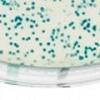Blue_green: (39, 6, 47, 13), (88, 1, 94, 8), (34, 22, 40, 29), (66, 34, 72, 41), (2, 13, 8, 19), (19, 61, 25, 67), (32, 58, 38, 64), (29, 48, 35, 54), (29, 23, 35, 29), (41, 18, 47, 24), (46, 17, 52, 23), (76, 4, 83, 9), (92, 2, 97, 9), (25, 16, 30, 23), (31, 12, 36, 19), (62, 7, 67, 14), (16, 2, 21, 9), (75, 11, 80, 17), (91, 27, 97, 32), (79, 55, 84, 61), (83, 49, 88, 55), (76, 49, 81, 55), (62, 44, 67, 50), (14, 31, 19, 37), (9, 18, 14, 24), (46, 41, 51, 47), (20, 25, 25, 31), (69, 21, 75, 26), (72, 25, 77, 31), (31, 1, 37, 6), (36, 11, 42, 16), (39, 13, 44, 19), (83, 4, 88, 9), (81, 11, 86, 16), (92, 52, 97, 57), (46, 57, 51, 62), (41, 55, 46, 60), (3, 21, 8, 26), (8, 36, 13, 41), (12, 51, 17, 56), (16, 55, 21, 60), (29, 63, 34, 68), (21, 36, 26, 41), (38, 41, 43, 46), (41, 29, 46, 34), (49, 34, 54, 39), (52, 43, 57, 48), (5, 2, 11, 6), (51, 52, 55, 58), (5, 31, 9, 37), (16, 48, 20, 54), (15, 43, 19, 49), (35, 36, 39, 42), (32, 30, 36, 36), (21, 12, 25, 18), (25, 7, 31, 11), (52, 0, 58, 4), (58, 0, 64, 4), (42, 0, 50, 3), (0, 48, 3, 55), (70, 0, 75, 4), (74, 10, 79, 14), (83, 18, 87, 23), (86, 29, 91, 33), (92, 25, 97, 29), (85, 54, 89, 59), (88, 45, 92, 50), (90, 47, 94, 52), (70, 53, 74, 58), (73, 52, 77, 57), (72, 45, 76, 50), (77, 44, 81, 49), (67, 42, 71, 47), (73, 42, 77, 47), (75, 40, 79, 45), (48, 50, 53, 54), (51, 48, 55, 53), (7, 26, 11, 31), (8, 50, 12, 55), (9, 41, 13, 46), (27, 36, 31, 41), (32, 19, 36, 24), (56, 28, 60, 33), (60, 38, 64, 43), (60, 32, 64, 37), (63, 25, 67, 30), (23, 1, 27, 6), (31, 5, 35, 10), (2, 2, 6, 6), (3, 0, 7, 4), (9, 7, 13, 11), (71, 4, 75, 8), (87, 17, 91, 21), (84, 46, 88, 50), (96, 54, 100, 58), (68, 45, 72, 49), (78, 35, 82, 39), (24, 54, 28, 58), (13, 42, 17, 46), (29, 18, 33, 22), (52, 31, 56, 35), (68, 24, 72, 28), (87, 21, 90, 26), (92, 32, 95, 37), (93, 46, 96, 51), (50, 60, 55, 63), (13, 17, 16, 22), (18, 15, 21, 20), (25, 38, 28, 43), (42, 47, 45, 52), (52, 38, 55, 43), (0, 12, 2, 19), (82, 0, 86, 3), (90, 0, 96, 2), (80, 23, 83, 27), (81, 21, 85, 24), (83, 27, 87, 30), (86, 25, 90, 28), (95, 41, 98, 45), (96, 43, 100, 46), (0, 18, 2, 24), (15, 16, 18, 20), (14, 25, 17, 29), (16, 23, 20, 26), (19, 21, 22, 25), (20, 17, 23, 21), (26, 51, 29, 55), (52, 28, 55, 32), (55, 35, 58, 39), (64, 40, 67, 44), (98, 11, 100, 16), (0, 0, 4, 2)
